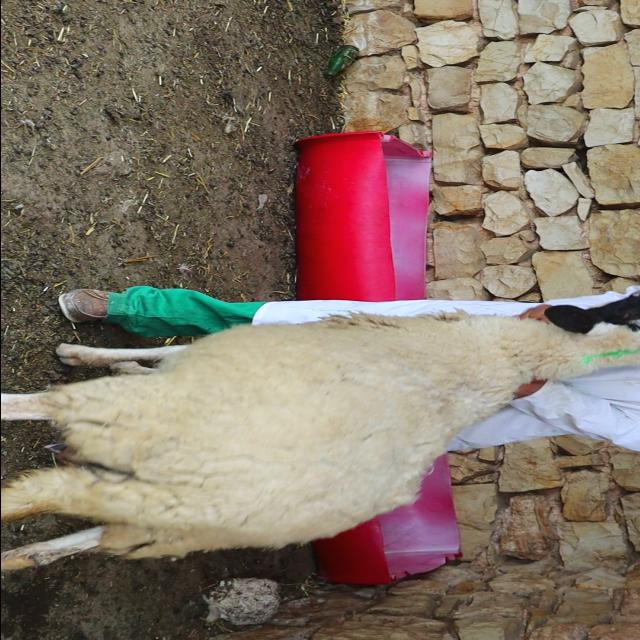Score_4: (1, 292, 640, 569)
